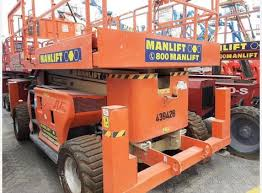Scissor Lift: (6, 1, 235, 192)
